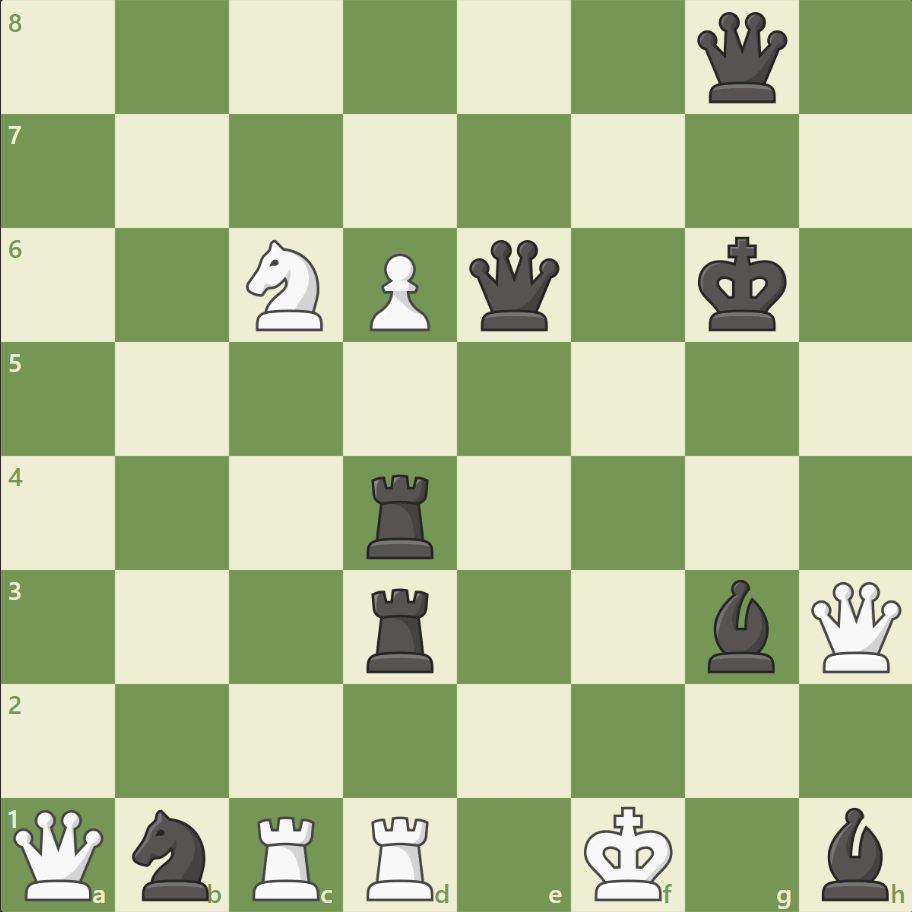K: (579, 798, 679, 906)
N: (238, 234, 335, 337)
P: (361, 246, 435, 337)
Q: (805, 576, 904, 676), (10, 804, 109, 903)
R: (246, 806, 329, 904), (360, 806, 442, 904)
b: (812, 801, 896, 904), (698, 574, 782, 676)
k: (692, 231, 792, 339)
n: (124, 802, 222, 904)
q: (691, 9, 790, 108), (464, 236, 563, 335)
r: (360, 466, 442, 563), (360, 579, 442, 676)
